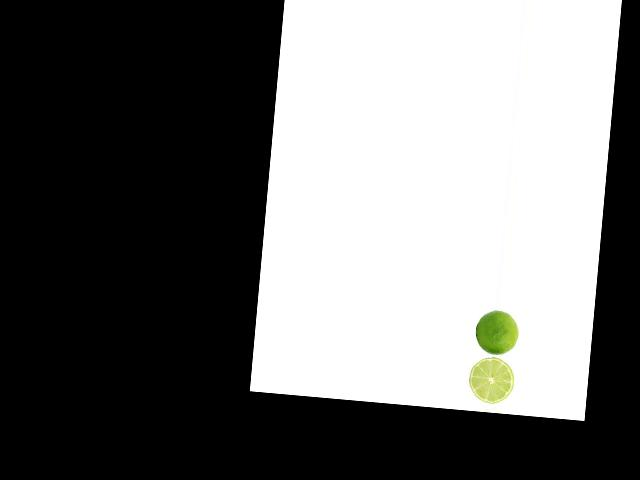lemon: (471, 309, 519, 356)
